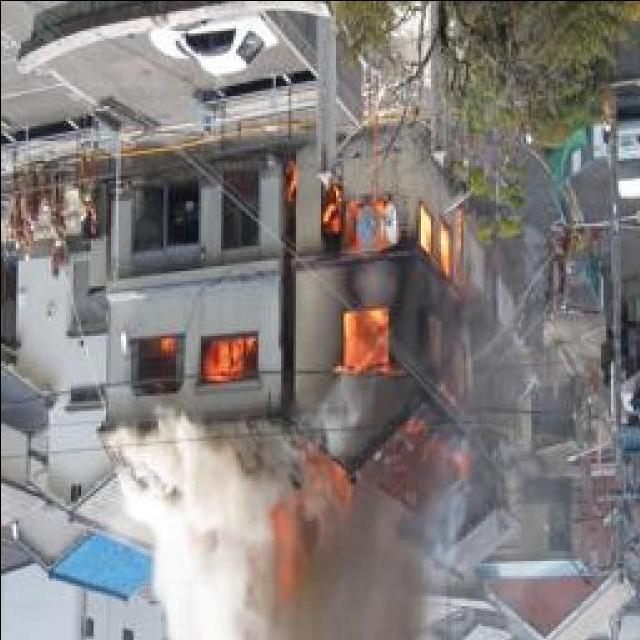Fire: (282, 156, 458, 386), (270, 448, 350, 587), (149, 336, 249, 378)
